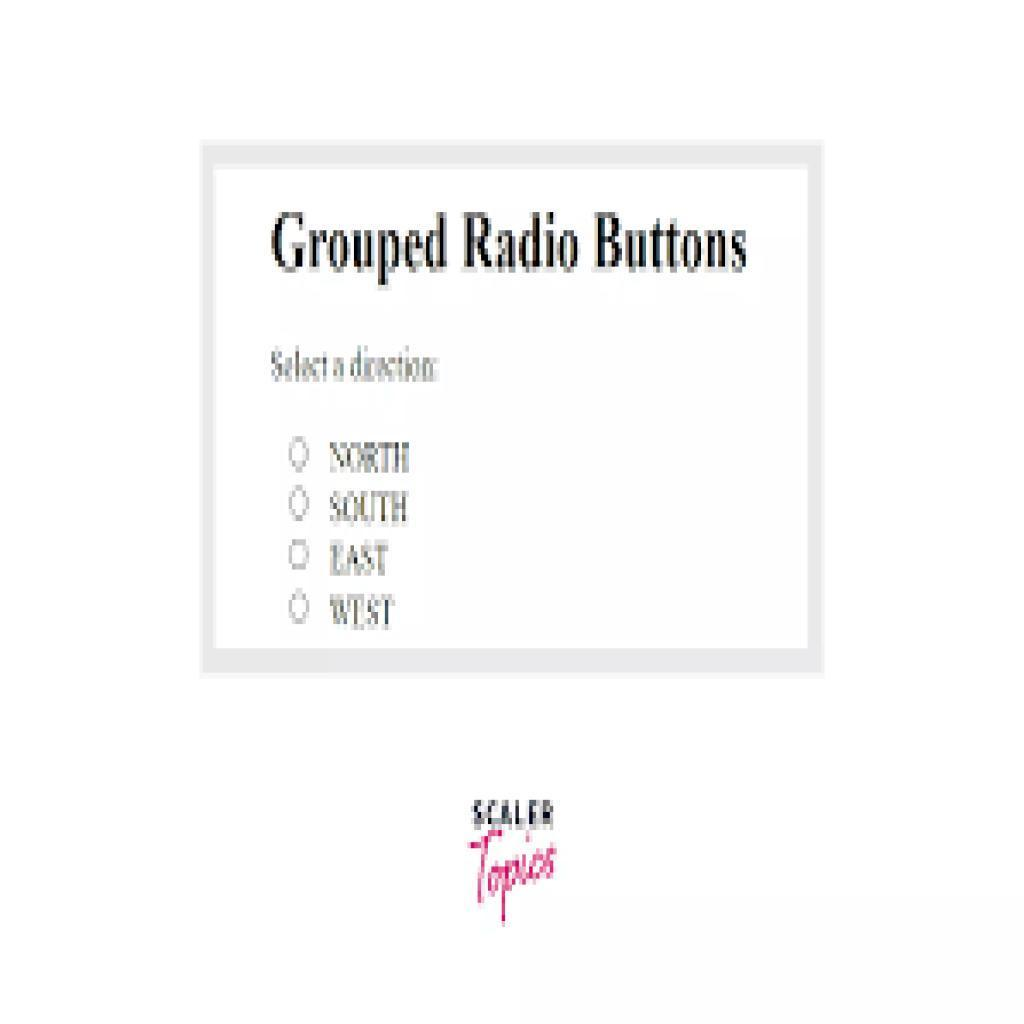radio: (286, 431, 315, 478), (284, 588, 315, 627), (285, 534, 315, 574), (287, 484, 315, 525)
